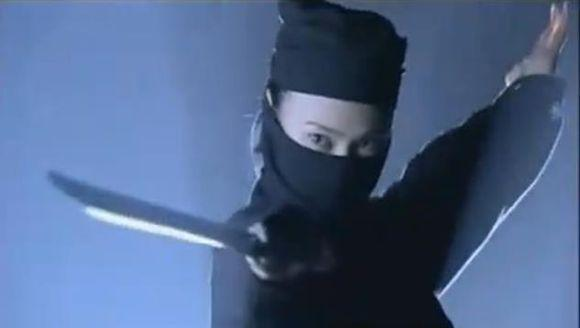OK: (284, 111, 395, 222)
